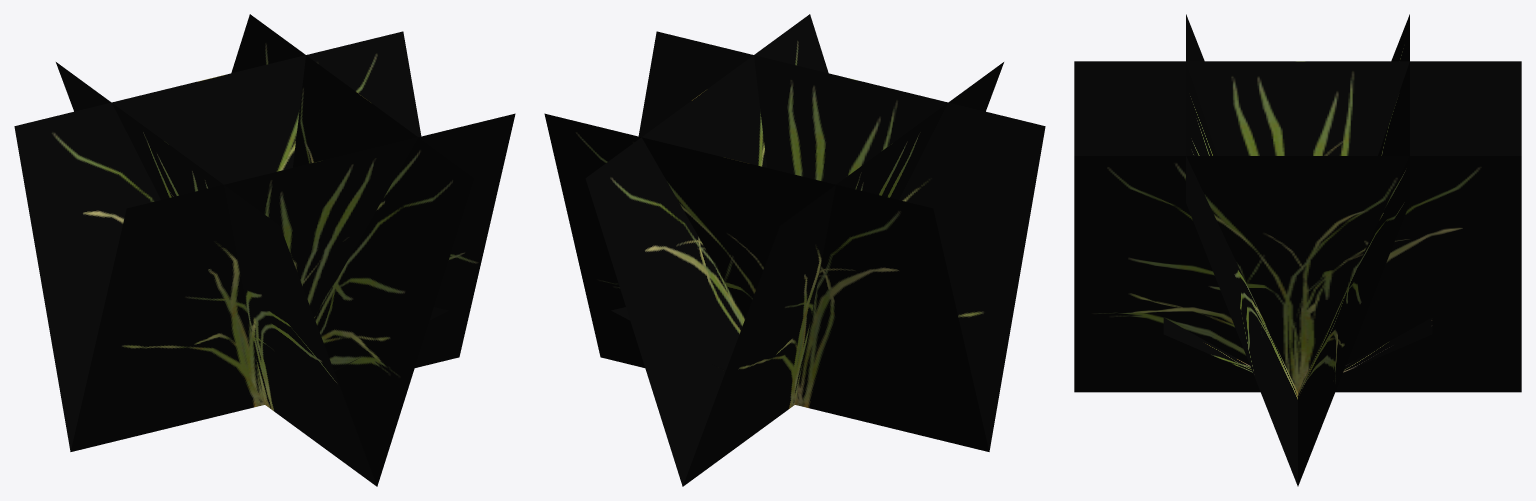
Rendered from grass01_midium.fbx.
3 renders of one model, left to right at view 1: azimuth 30°, elevation 25°; view 2: azimuth 150°, elevation 25°; view 3: azimuth 270°, elevation 25°, orthographic.
Visible parts, largest first — view 1: grass01_midium; view 2: grass01_midium; view 3: grass01_midium.
Part boxes in pixels (x1,y1,x2,y2): grass01_midium: [14, 14, 515, 486]; grass01_midium: [544, 14, 1045, 486]; grass01_midium: [1074, 14, 1521, 486].
Bounding box in the file's own units: 100 × 70 × 100.
